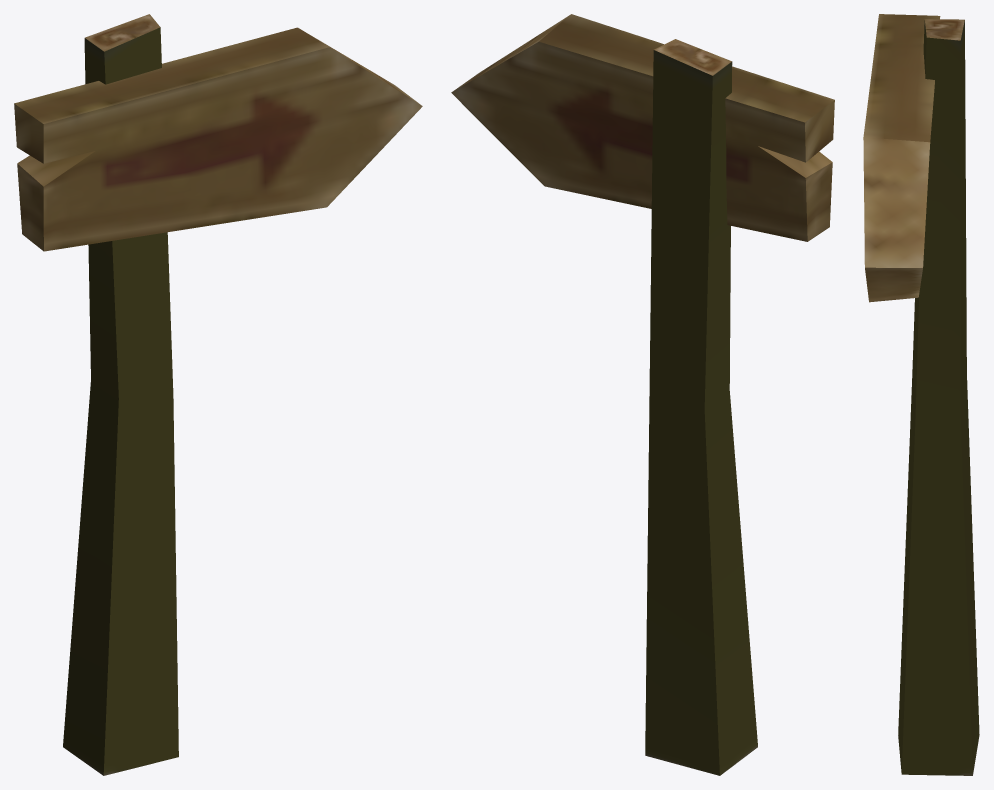
The model's file is MUZHALAN_fuben_lupai.FBX.
3 renders of one model, left to right at view 1: azimuth 30°, elevation 25°; view 2: azimuth 150°, elevation 25°; view 3: azimuth 270°, elevation 25°, orthographic. The views are drawn at different scales.
Parts seen in each view (by area): view 1: MUZHALAN_fuben_11; view 2: MUZHALAN_fuben_11; view 3: MUZHALAN_fuben_11.
Part boxes in pixels (box(x1,y1,x2,y2)): MUZHALAN_fuben_11: box(14, 14, 422, 775); MUZHALAN_fuben_11: box(451, 14, 834, 775); MUZHALAN_fuben_11: box(863, 14, 979, 775).
Size of the model in its own units: 212 by 392 by 56.13.
Materials: 1 (1 with a texture image).
